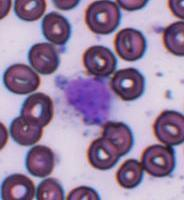M: (60, 75, 116, 125)
